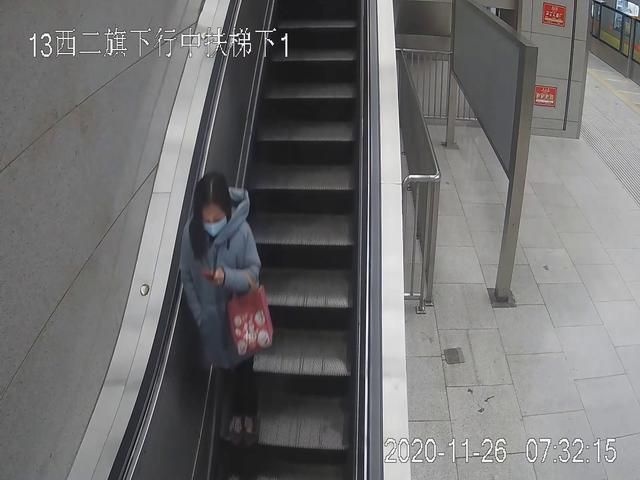person: (181, 172, 274, 443)
